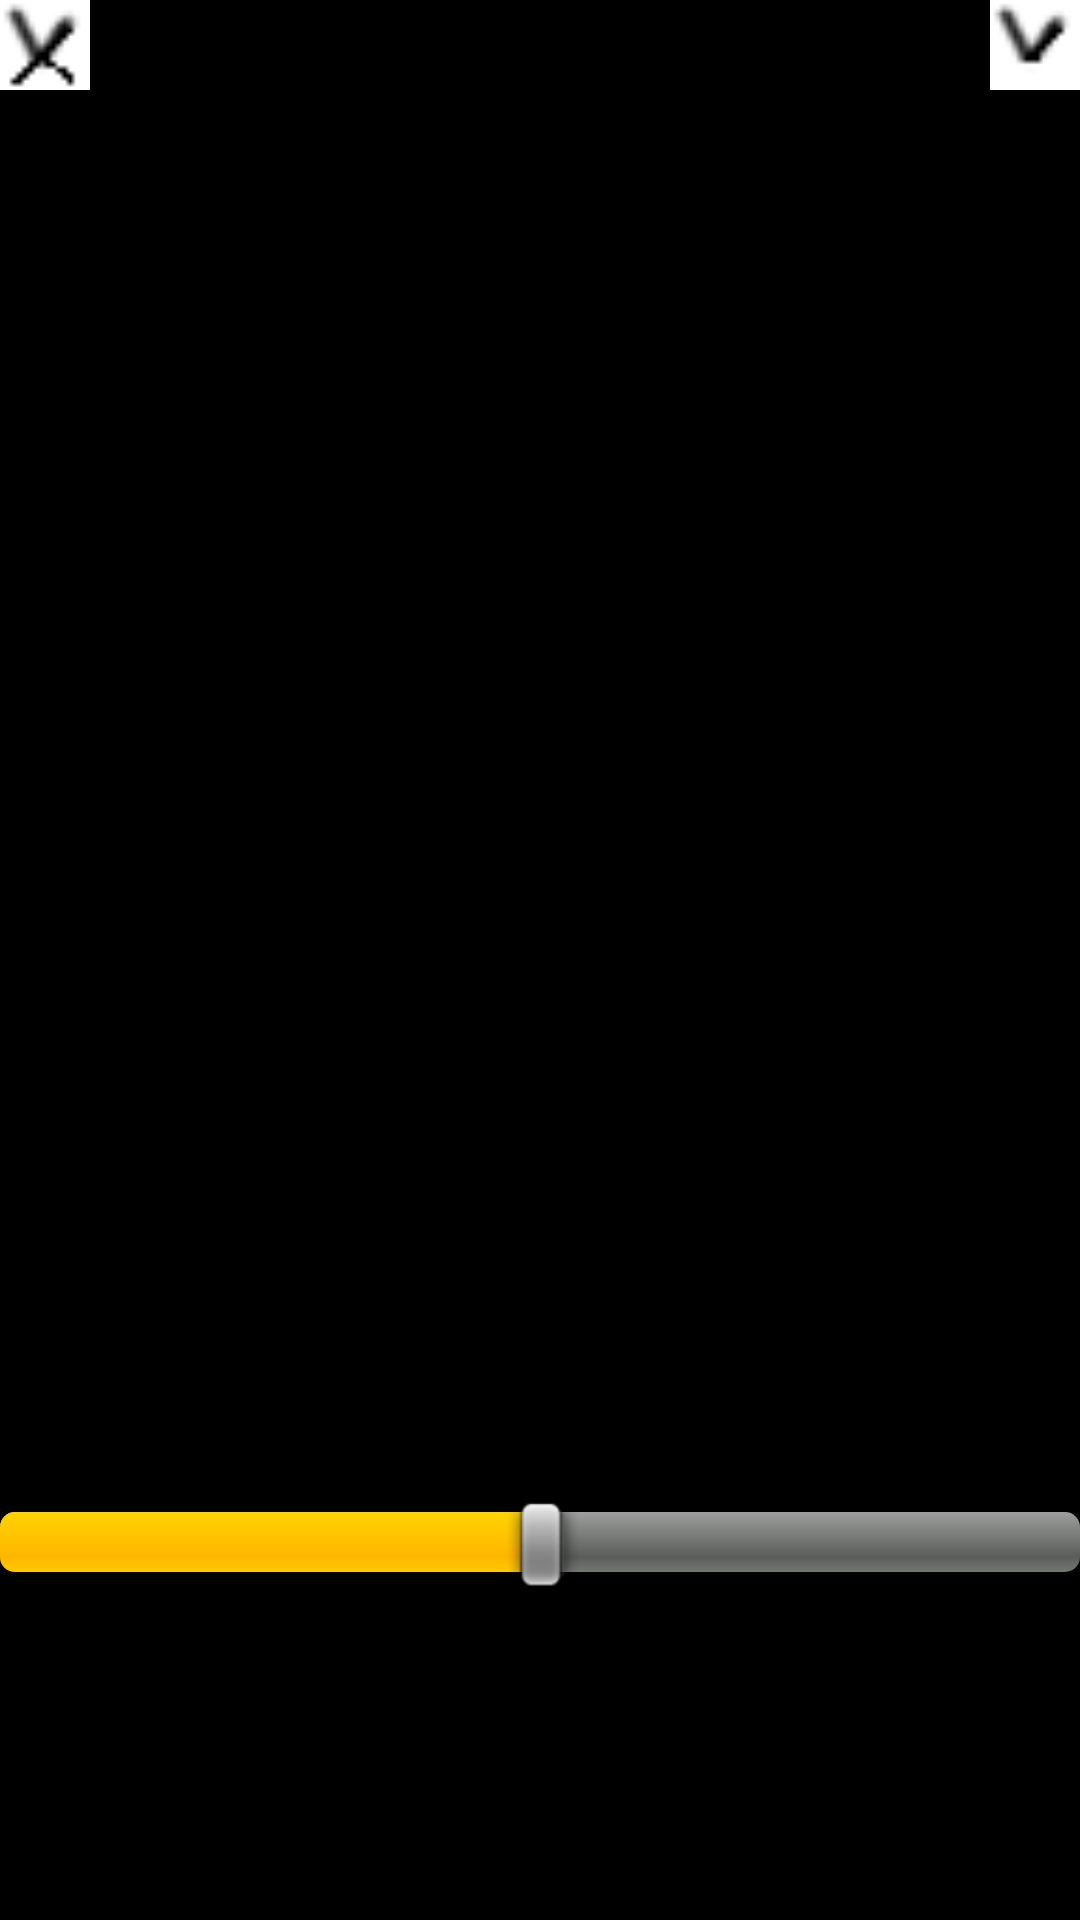

Screen size 1080x1920. Icon name, then its center in pixels as point (x, y):
no ok: point (45, 45)
